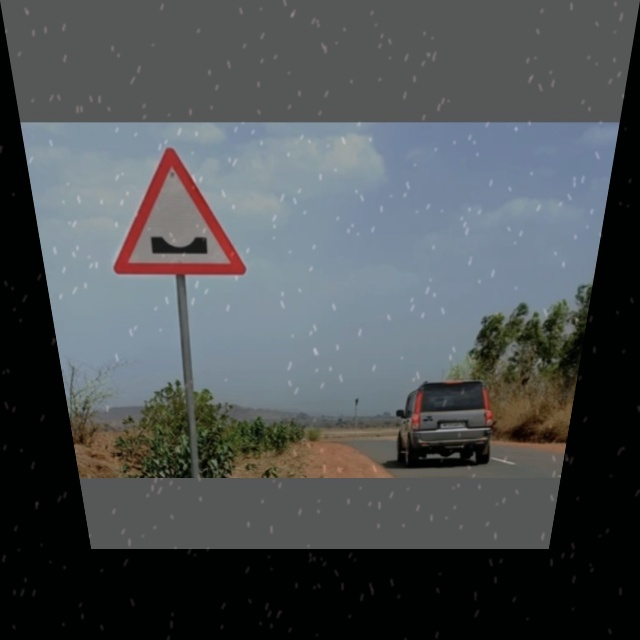Dangerous_Dip: (97, 146, 246, 276)
